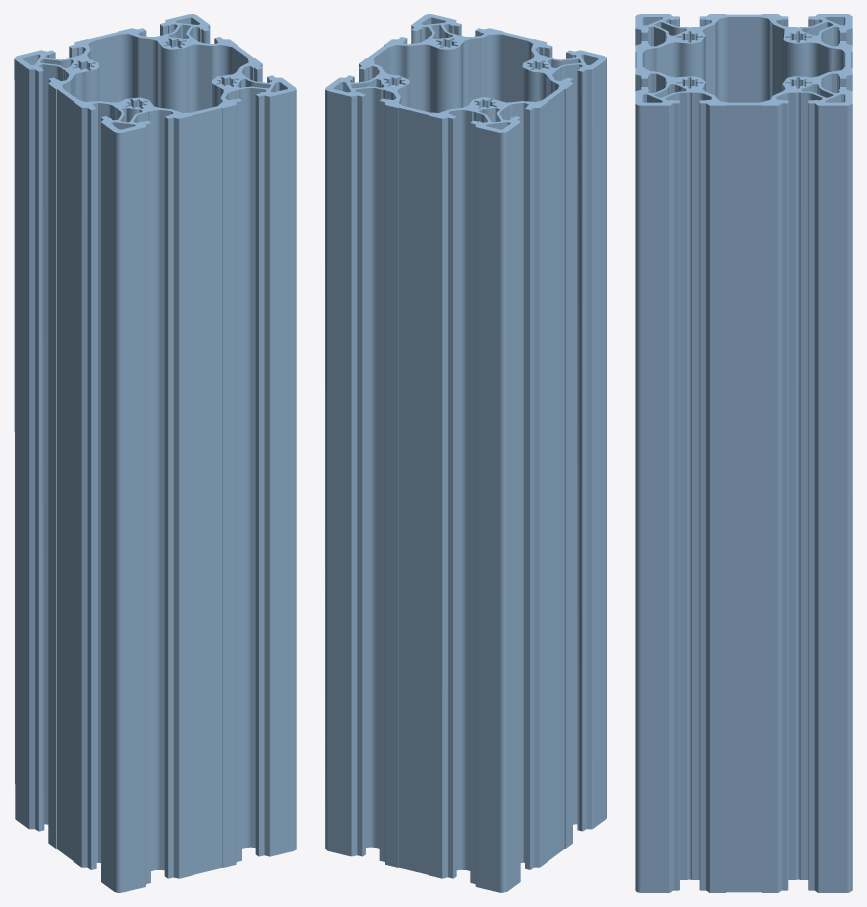
Rendered from ST_EXT_005_0360.gltf.
3 views of the same model, side by side, from view 1: azimuth 30°, elevation 25°; view 2: azimuth 150°, elevation 25°; view 3: azimuth 270°, elevation 25° (orthographic). The views are drawn at different scales.
Bounding box in the file's own units: 0.09 × 0.36 × 0.09.
